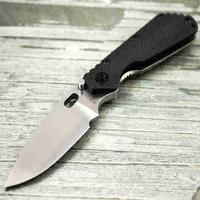knife: (3, 17, 193, 195)
